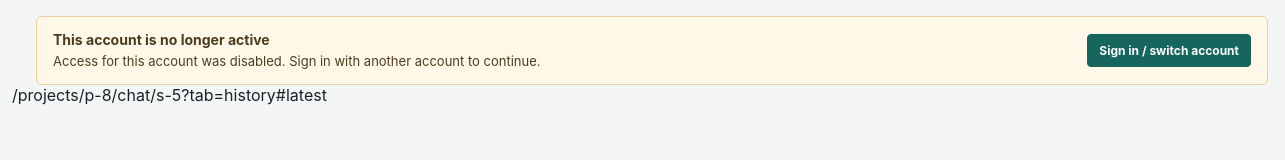
RecoveryNotice › names revoked and expired sessions and offers account sign-in
This screenshot has width=1285, height=160.
Later steps or results of the test are not shown.
Click the button "Sign in / switch account". click: (1169, 51)
box: x1=1087 y1=34 x2=1251 y2=67
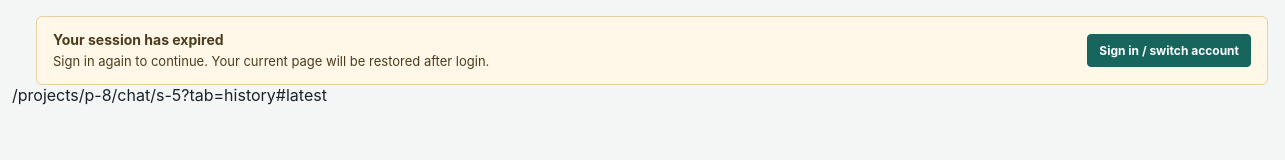
Now the text "Your session has expired" is shown, box x1=53 y1=31 x2=224 y2=48
